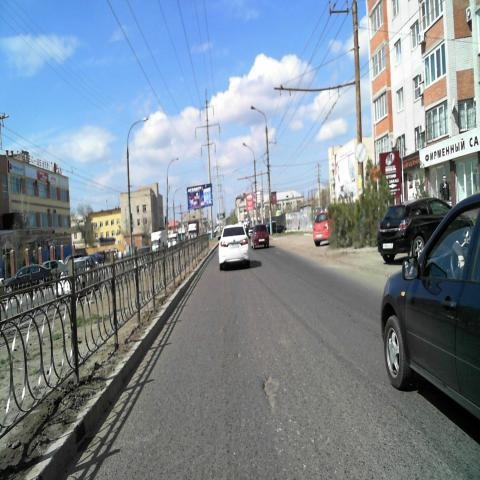3_31: (354, 141, 368, 164)
